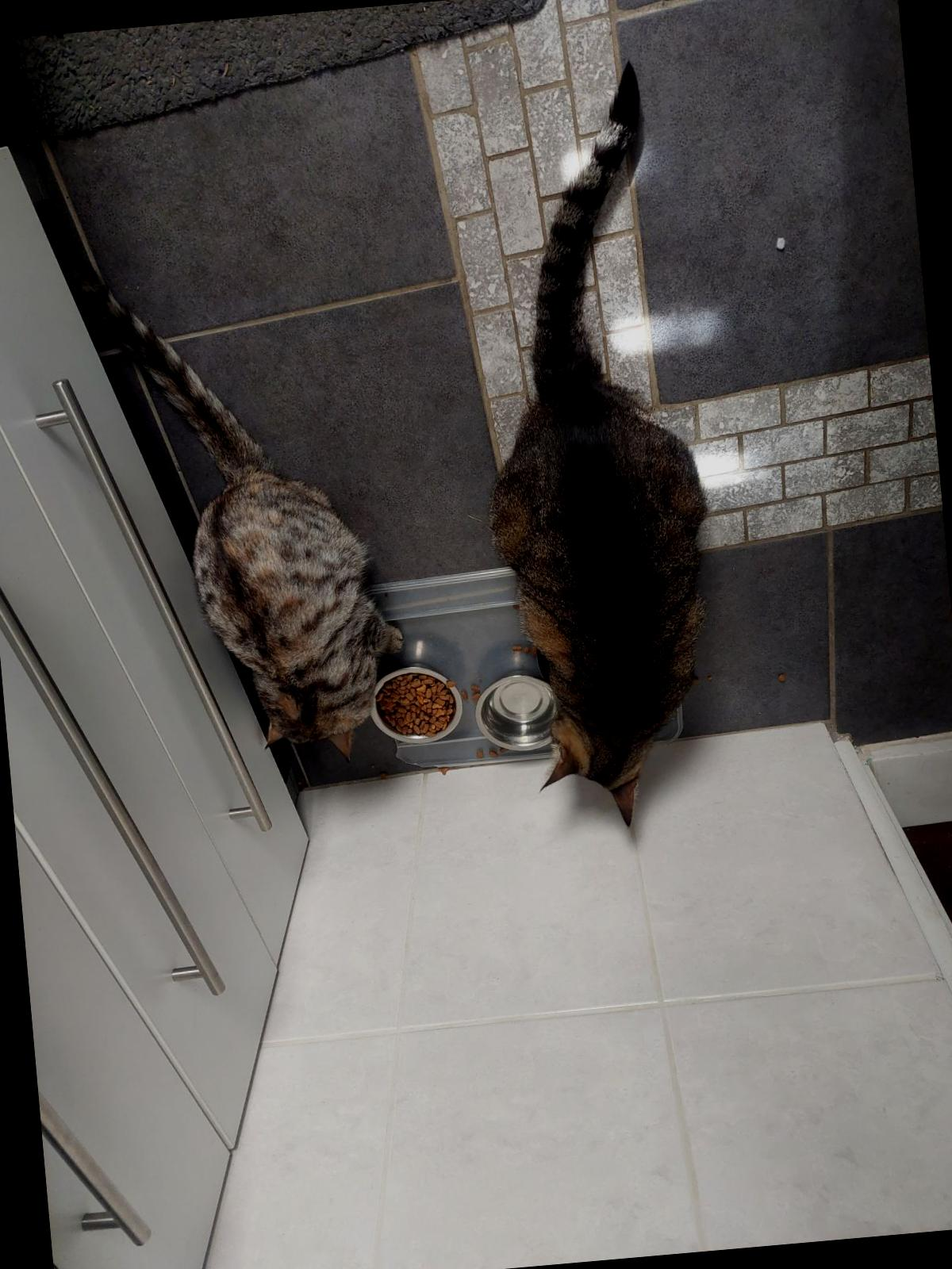macka: (449, 56, 733, 841), (61, 225, 415, 787)
